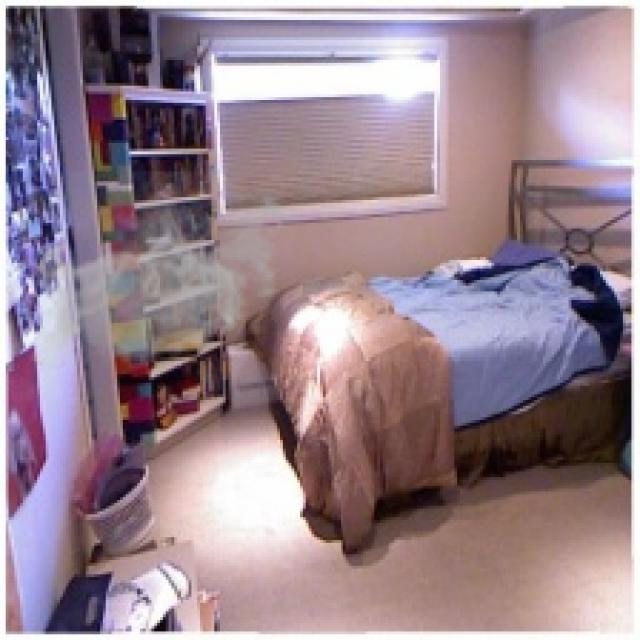smoke: (32, 172, 294, 377)
